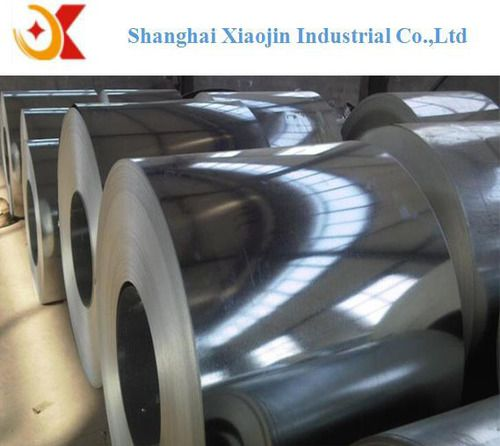steel-coil: (15, 87, 474, 373)
